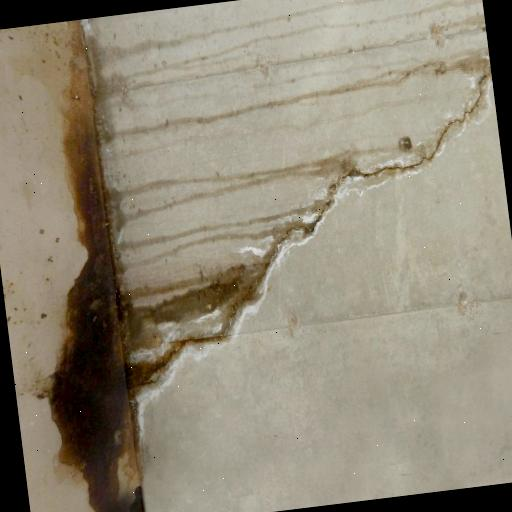spalling: (130, 57, 488, 412)
